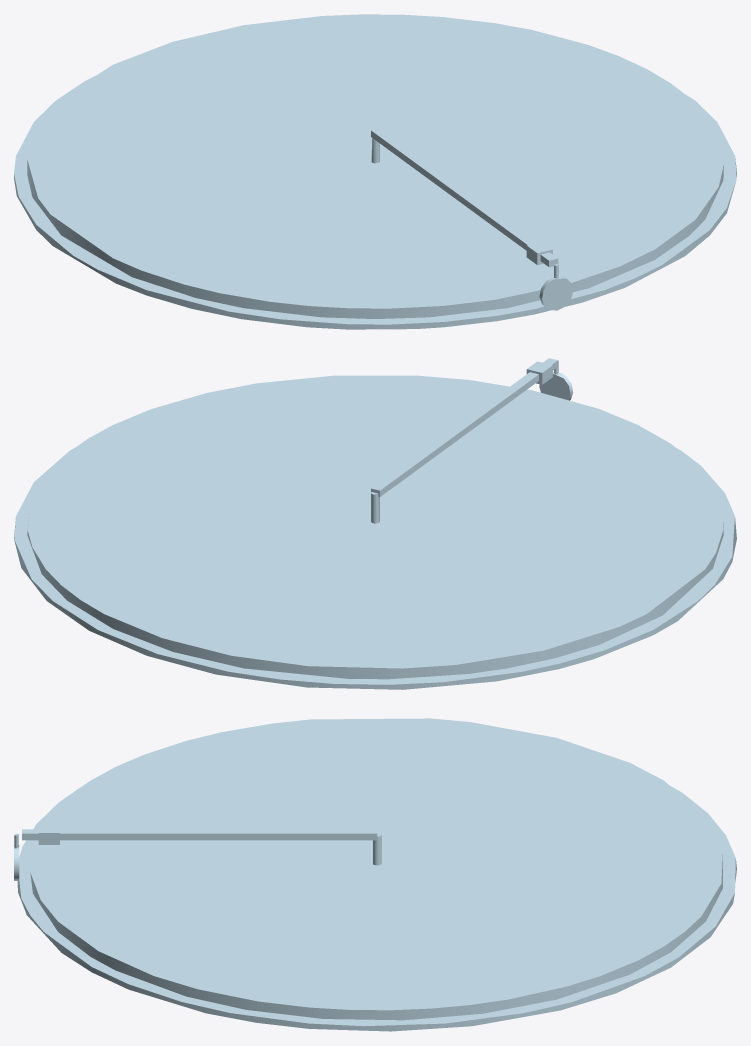
Rendered from agrokruh_bed_lod2.glb.
The picture shows the model from 3 angles, top to bottom: view 1: azimuth 30°, elevation 25°; view 2: azimuth 150°, elevation 25°; view 3: azimuth 270°, elevation 25°; orthographic projection.
Visible parts, largest first — view 1: Agrokruh crop pad, Agrokruh soil bed, Agrokruh arm (×2); view 2: Agrokruh crop pad, Agrokruh soil bed, Agrokruh arm (×2); view 3: Agrokruh crop pad, Agrokruh soil bed, Agrokruh arm.
Boxes of the visible parts, bbox=[...] form: Agrokruh crop pad: bbox=[27, 14, 723, 318]; Agrokruh soil bed: bbox=[14, 76, 736, 329]; Agrokruh arm (×2): bbox=[371, 128, 573, 310]; Agrokruh crop pad: bbox=[27, 375, 723, 679]; Agrokruh soil bed: bbox=[14, 448, 736, 689]; Agrokruh arm (×2): bbox=[371, 358, 573, 496]; Agrokruh crop pad: bbox=[30, 718, 722, 1020]; Agrokruh soil bed: bbox=[17, 786, 736, 1031]; Agrokruh arm: bbox=[22, 829, 377, 840].
Size of the model in its own units: 21.97 by 1.68 by 22.05.
